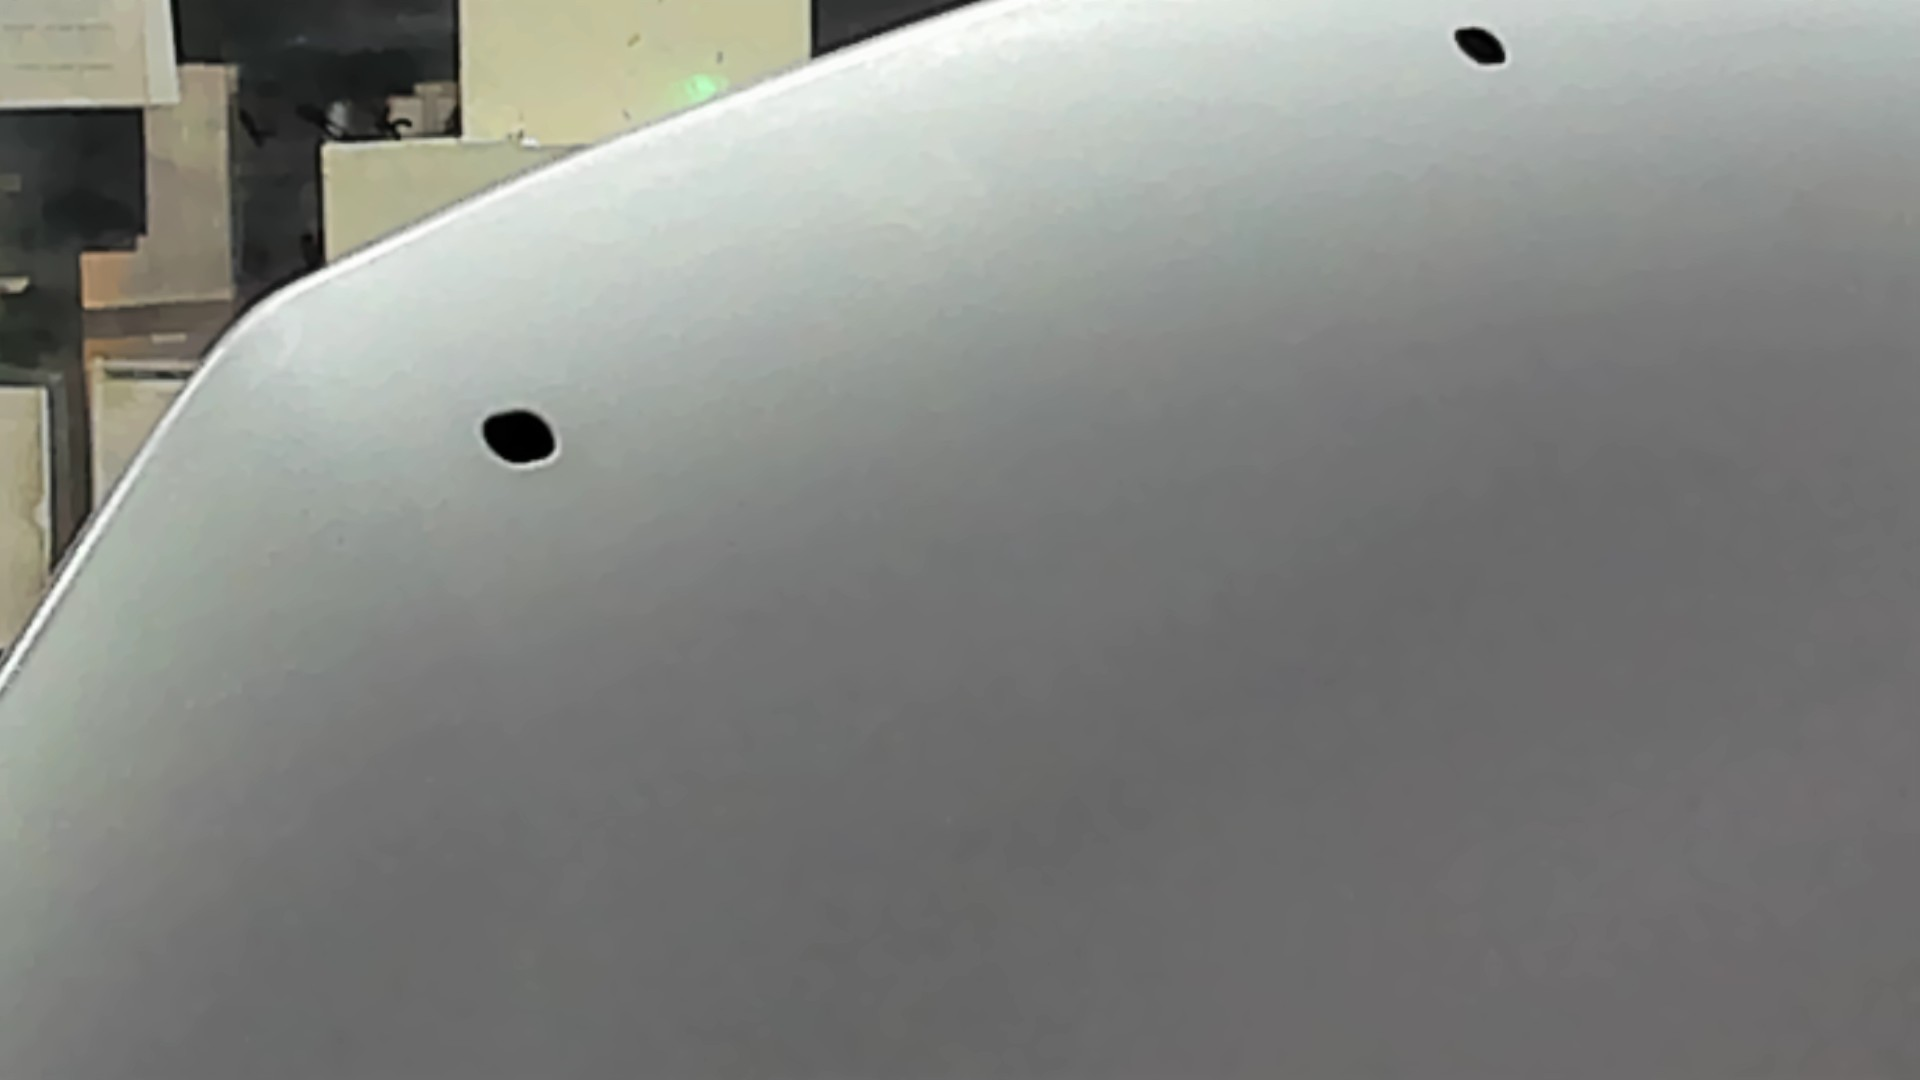chico: (465, 401, 578, 483), (1443, 15, 1528, 80)
